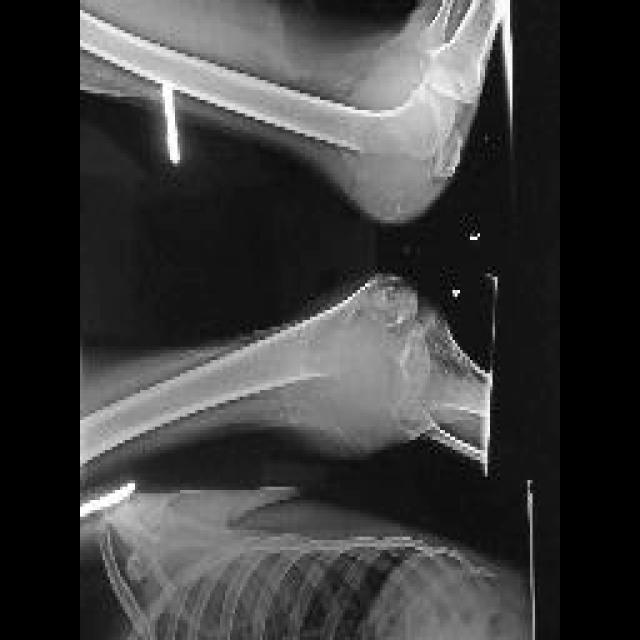bone-cancer: (301, 307, 411, 412), (364, 98, 442, 173)
